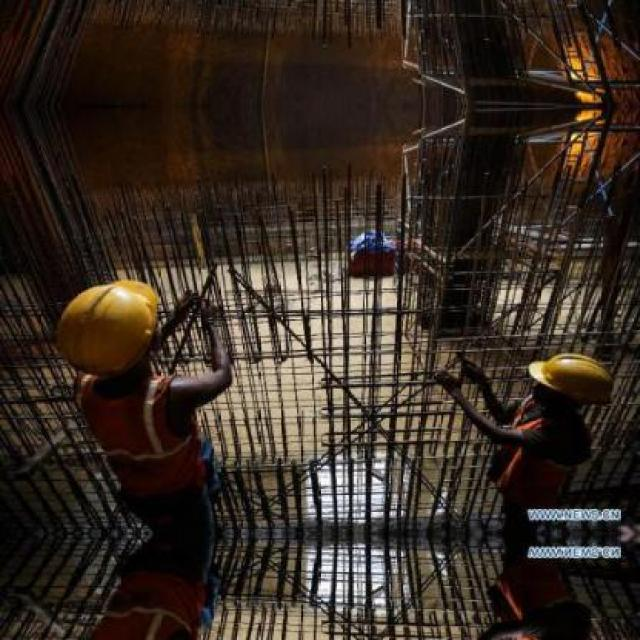helmet: (55, 275, 167, 377), (521, 349, 617, 411)
